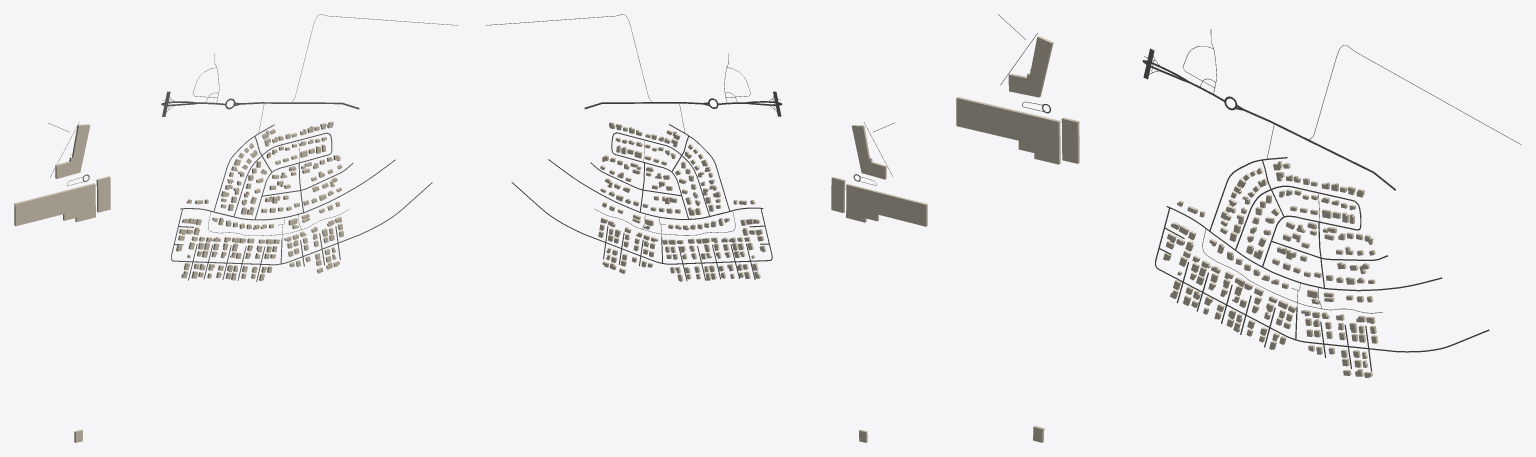
File: historic-palestine-06_23_3475_3171.glb
3 renders of one model, left to right at view 1: azimuth 30°, elevation 25°; view 2: azimuth 150°, elevation 25°; view 3: azimuth 330°, elevation 25°, orthographic. The views are drawn at different scales.
Visible parts, largest first — view 1: Building_, Building_.002, Road .028, Building_.208; view 2: Building_, Building_.002, Road .028, Building_.208; view 3: Building_, Building_.002, Building_.208, Road .028, Road .030, Road .027.
Boxes of the visible parts, x1,y1,x2,y2 form: Building_: (14, 183, 95, 226); Building_.002: (55, 124, 90, 178); Road .028: (171, 182, 432, 265); Building_.208: (96, 176, 110, 212); Building_: (846, 184, 927, 226); Building_.002: (851, 125, 886, 179); Road .028: (511, 182, 772, 264); Building_.208: (831, 177, 845, 212); Building_: (956, 97, 1060, 164); Building_.002: (1008, 36, 1053, 97); Building_.208: (1061, 117, 1079, 163); Road .028: (1155, 207, 1489, 352); Road .030: (1235, 185, 1361, 266); Road .027: (1166, 206, 1442, 291).
Size of the model in its own units: 1461 by 1166 by 8.7.
